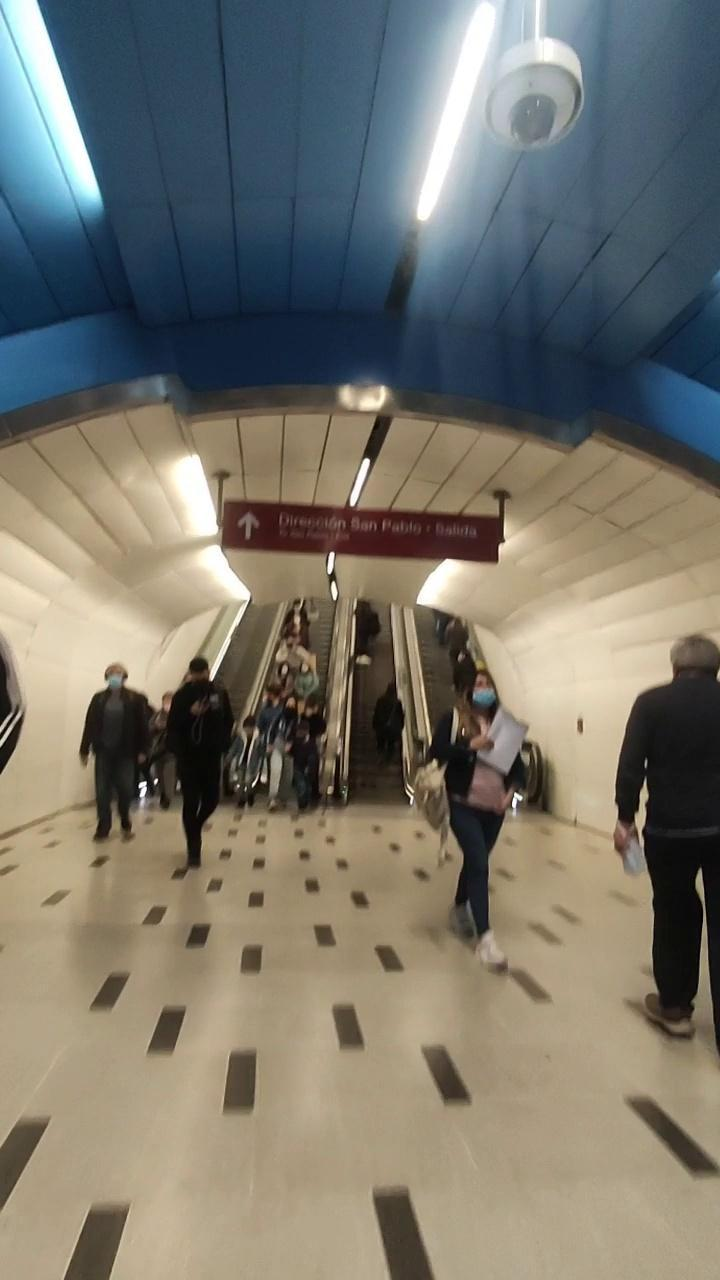up arrow: (233, 511, 265, 545)
